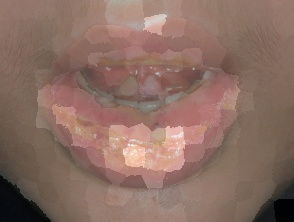SJS-TEN: (19, 3, 275, 221)
